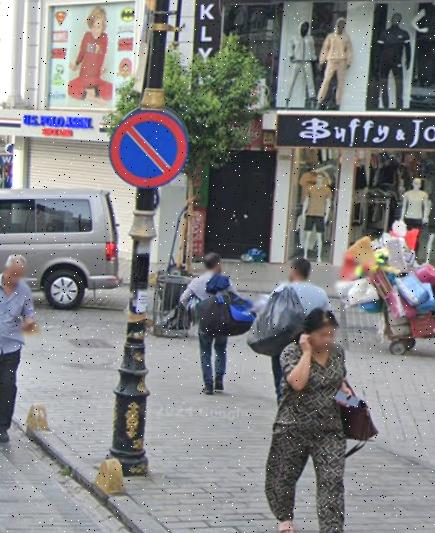nopark: (113, 111, 182, 184)
